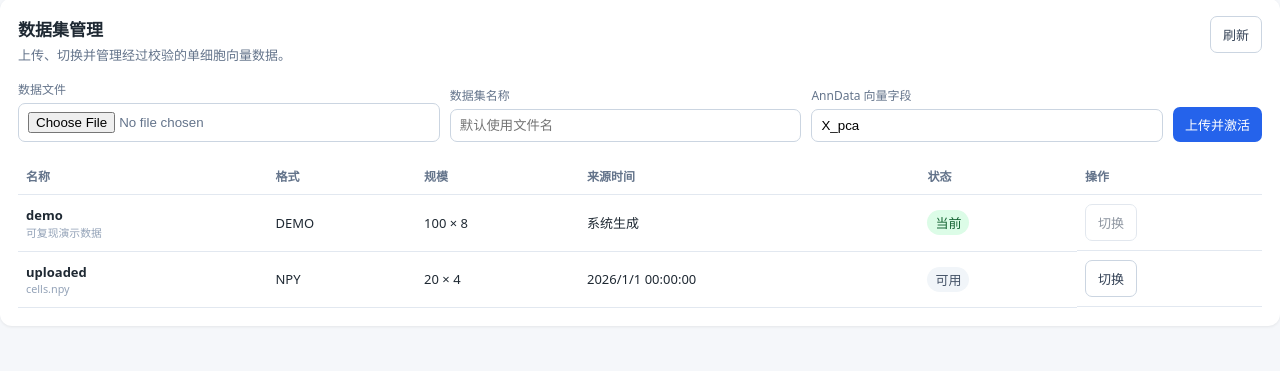
Test: DatasetManager › rejects an empty upload before making a request
Click the button "上传并激活". click: point(1218, 124)
box: [1173,107,1262,142]
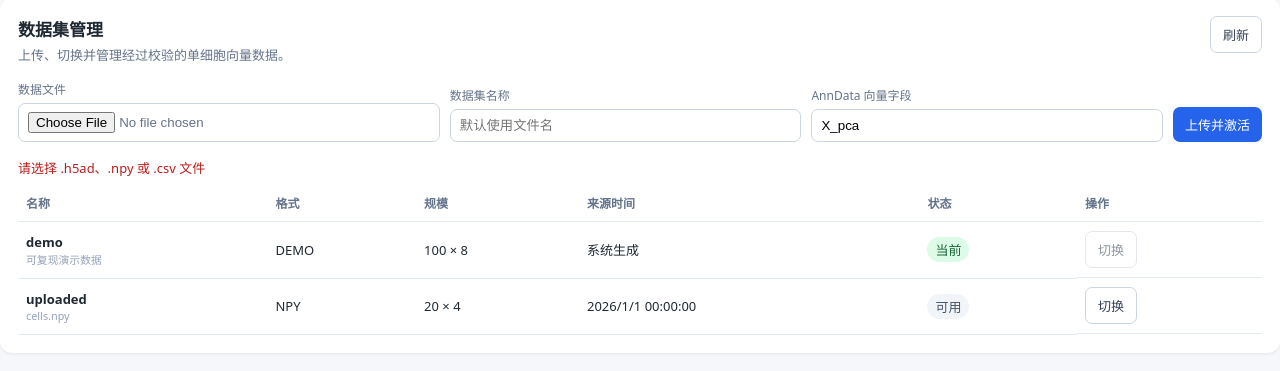
Now the message "请选择 .h5ad、.npy 或 .csv 文件" is shown, box [18,159,205,177]
